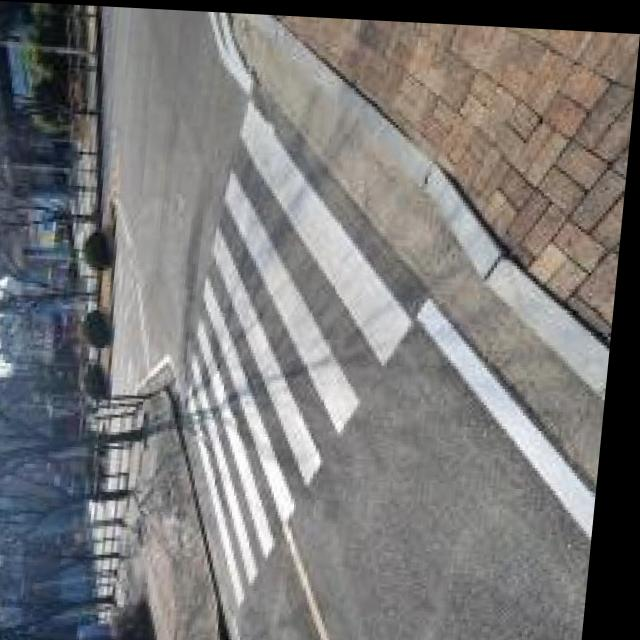zebra: (174, 74, 426, 609)
